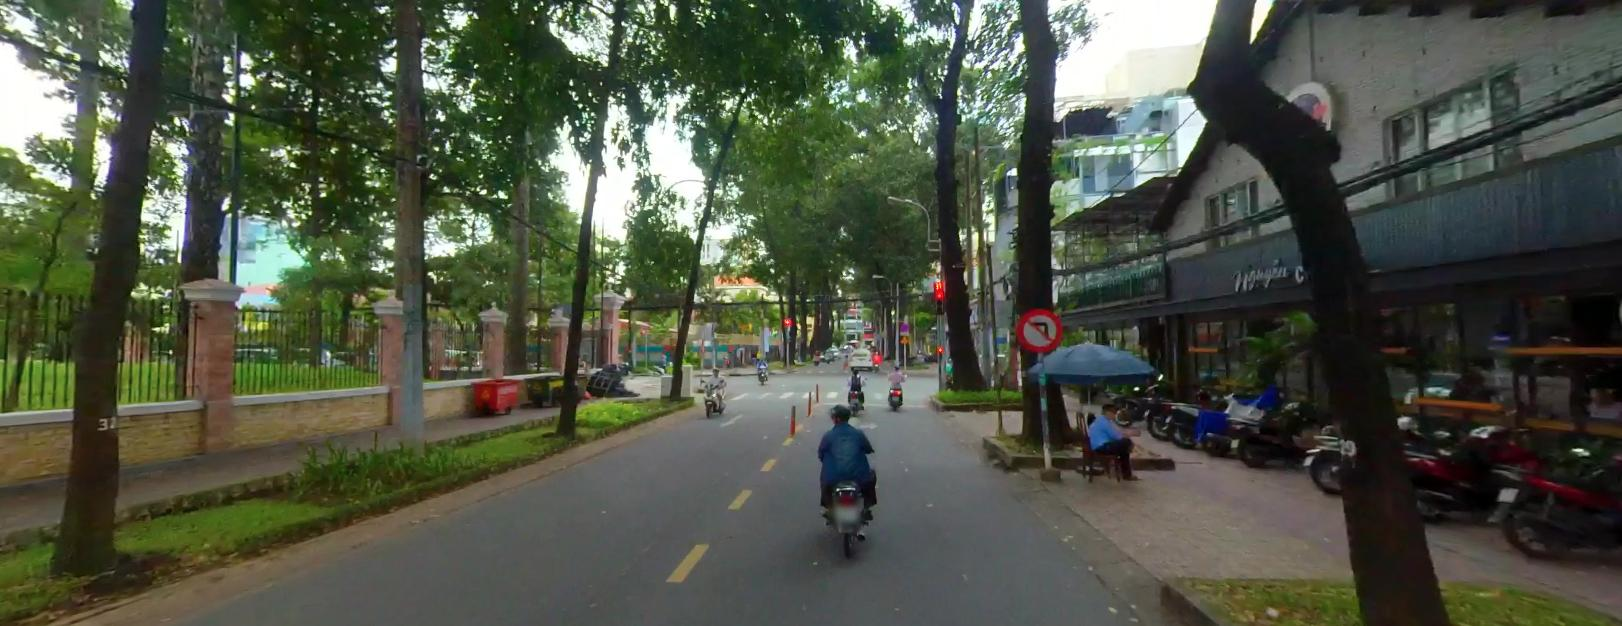Cam dung va do: (899, 321, 908, 330)
Cam re: (1015, 303, 1063, 353)
